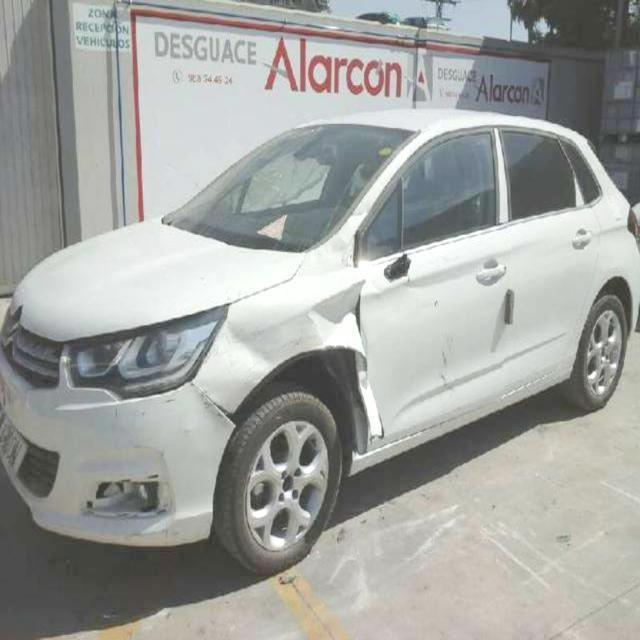minor: (405, 340, 497, 402), (142, 394, 181, 434)
moderate: (192, 239, 385, 441)
